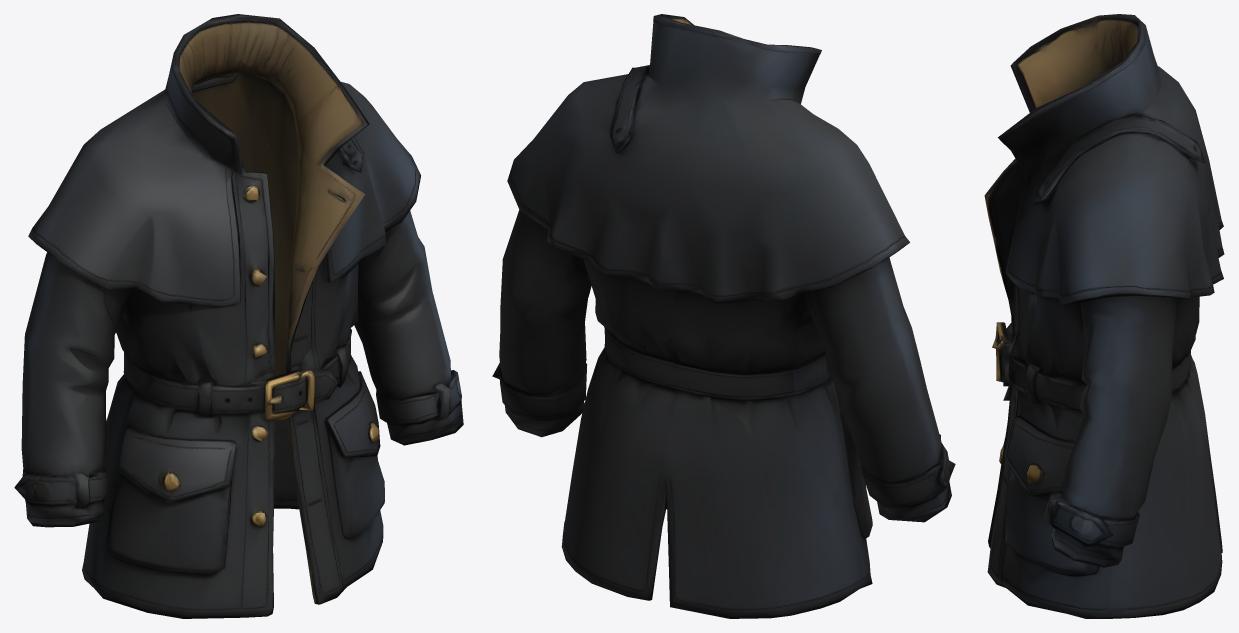
Rendered from PIPELINE3D-arm_oilskin_coat-batch2-14-delivery-model-fbx-b609870ab966-ef26af0d91a3.fbx.
3 renders of one model, left to right at view 1: azimuth 30°, elevation 25°; view 2: azimuth 150°, elevation 25°; view 3: azimuth 270°, elevation 25°, orthographic. The views are drawn at different scales.
Parts seen in each view (by area): view 1: tripo_node_3caf25f0-41f2-406b-887f-1c36f5f8d0fc; view 2: tripo_node_3caf25f0-41f2-406b-887f-1c36f5f8d0fc; view 3: tripo_node_3caf25f0-41f2-406b-887f-1c36f5f8d0fc.
Boxes of the visible parts, x1,y1,x2,y2 form: tripo_node_3caf25f0-41f2-406b-887f-1c36f5f8d0fc: (14,14,463,618); tripo_node_3caf25f0-41f2-406b-887f-1c36f5f8d0fc: (492,14,955,618); tripo_node_3caf25f0-41f2-406b-887f-1c36f5f8d0fc: (984,14,1224,618).
Bounding box in the file's own units: 103 × 120 × 48.93.
1 material, 1 textured.
